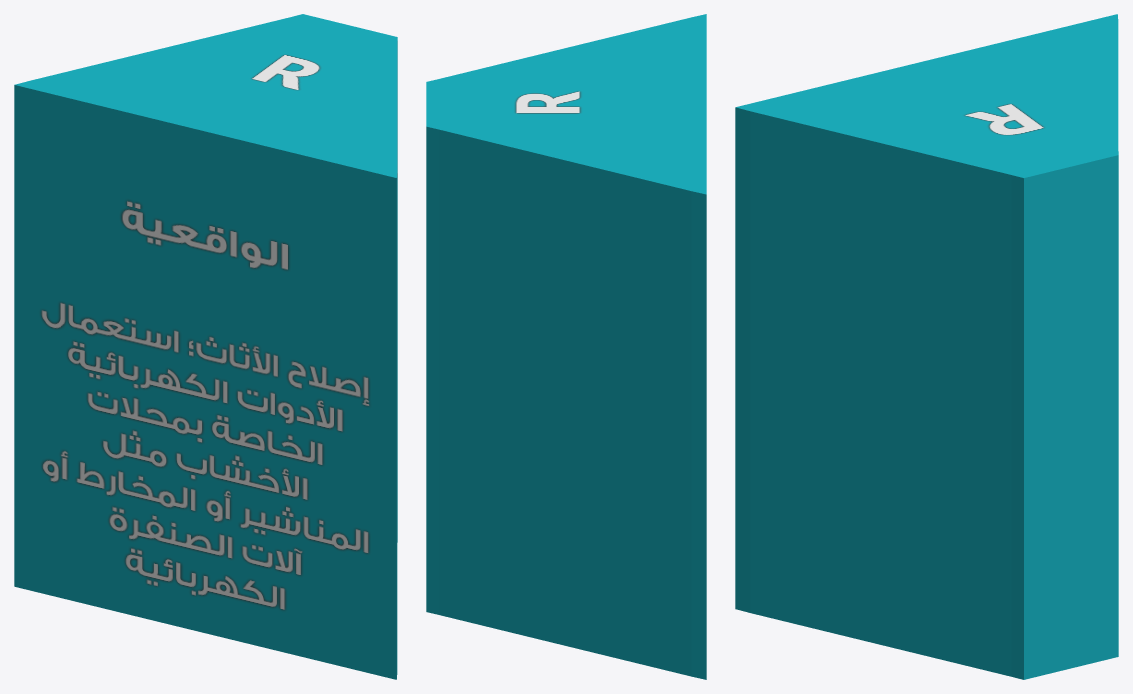
File: rmodel-ar.glb
3 views of the same model, side by side, from view 1: azimuth 30°, elevation 25°; view 2: azimuth 150°, elevation 25°; view 3: azimuth 270°, elevation 25° (orthographic). The views are drawn at different scales.
Visible parts, largest first — view 1: Object011; view 2: Object011; view 3: Object011.
Boxes of the visible parts, x1,y1,x2,y2 form: Object011: (14,14,397,679); Object011: (426,14,706,679); Object011: (735,14,1118,679).
Bounding box in the file's own units: 0.4373 × 0.6232 × 0.4315.
1 material, 1 textured.
